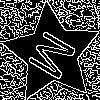M: (26, 28, 86, 87)
